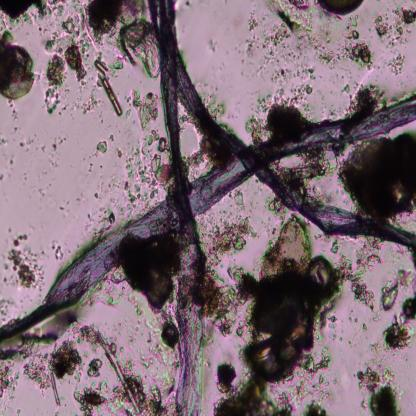Background material: (244, 216, 326, 379), (80, 326, 172, 415), (339, 133, 416, 218), (121, 86, 171, 202), (248, 0, 332, 63), (123, 235, 182, 308), (331, 238, 381, 309), (27, 342, 81, 406), (214, 376, 292, 414), (247, 98, 314, 139), (206, 264, 243, 338), (118, 21, 163, 80), (5, 230, 45, 292), (207, 215, 258, 263), (86, 1, 144, 43), (354, 365, 402, 415), (48, 19, 86, 81), (334, 16, 375, 71), (283, 152, 331, 193), (299, 349, 335, 399), (273, 63, 318, 100), (372, 319, 416, 354), (374, 5, 416, 37), (186, 140, 229, 171), (44, 57, 66, 112), (0, 1, 48, 25), (381, 273, 406, 314), (350, 89, 384, 117), (74, 386, 113, 410), (50, 136, 74, 171), (215, 360, 238, 396), (0, 358, 20, 398), (323, 311, 346, 345), (92, 207, 117, 237), (204, 92, 226, 119), (17, 135, 40, 156), (387, 52, 406, 76), (400, 295, 416, 322), (85, 355, 103, 379), (302, 401, 329, 414), (206, 30, 219, 54), (50, 240, 64, 262), (95, 139, 108, 156), (234, 189, 245, 207), (361, 321, 372, 332)
Cotton: (0, 91, 416, 347), (151, 0, 416, 250), (147, 1, 205, 415)
Diatom: (0, 45, 34, 99), (309, 256, 334, 292), (316, 0, 366, 17), (162, 320, 178, 350)
